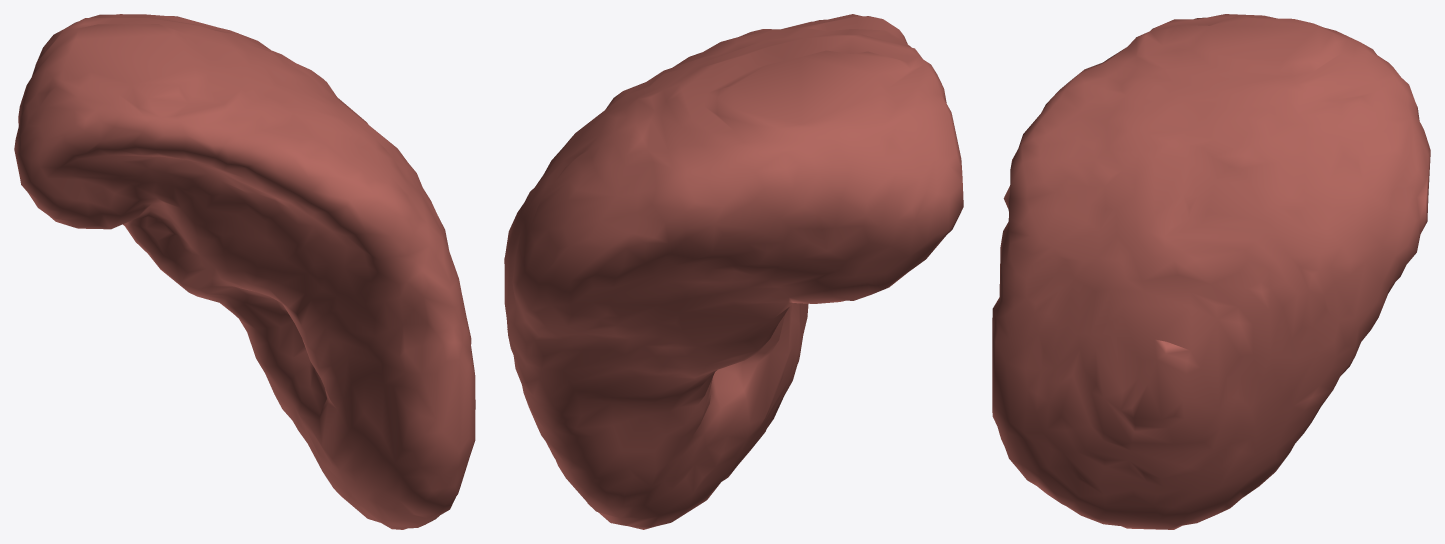
The model's file is tsd_s0327_older_adult_male.lymphatic.LOD2.glb.
The picture shows the model from 3 angles, left to right: view 1: azimuth 30°, elevation 25°; view 2: azimuth 150°, elevation 25°; view 3: azimuth 270°, elevation 25°; orthographic projection. The views are drawn at different scales.
Parts seen in each view (by area): view 1: TSD_S0327.OLDER_ADULT.MALE.LYMPHATIC.SPLEEN; view 2: TSD_S0327.OLDER_ADULT.MALE.LYMPHATIC.SPLEEN; view 3: TSD_S0327.OLDER_ADULT.MALE.LYMPHATIC.SPLEEN.
Part boxes in pixels (x1,y1,x2,y2): TSD_S0327.OLDER_ADULT.MALE.LYMPHATIC.SPLEEN: (14, 14, 475, 529); TSD_S0327.OLDER_ADULT.MALE.LYMPHATIC.SPLEEN: (504, 14, 963, 529); TSD_S0327.OLDER_ADULT.MALE.LYMPHATIC.SPLEEN: (992, 14, 1430, 529).
Bounding box in the file's own units: 0.079 × 0.0945 × 0.0917.
